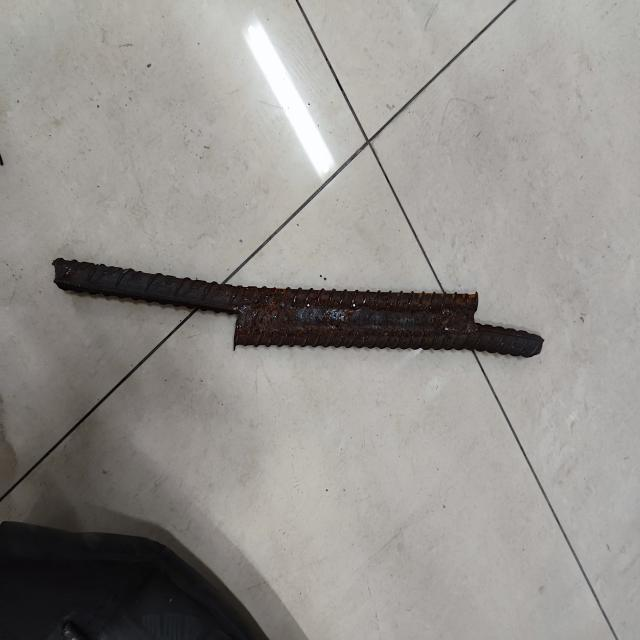Welded link: (233, 282, 479, 354)
ribbed bar: (45, 248, 554, 372)
